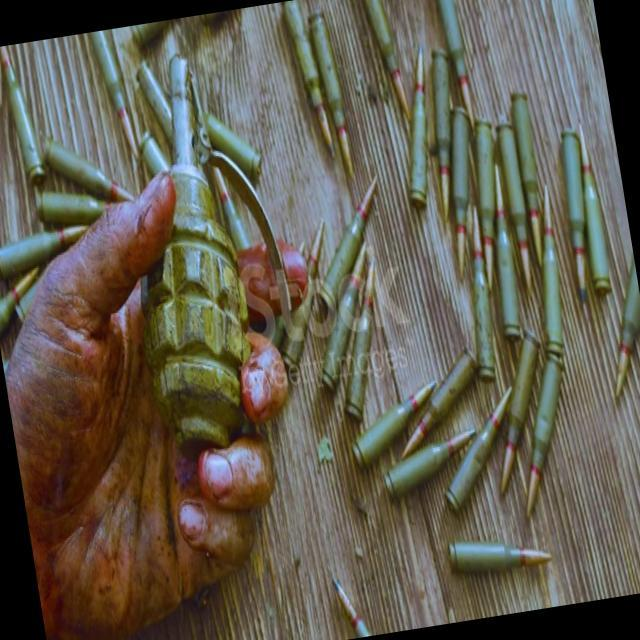grenade: (96, 40, 274, 467)
